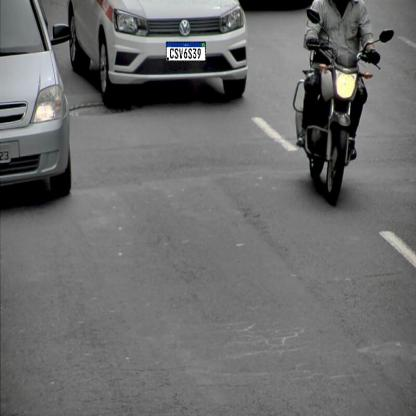PlacaM: (166, 42, 206, 62)
